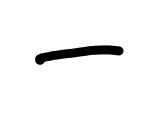minus: (36, 45, 124, 65)
